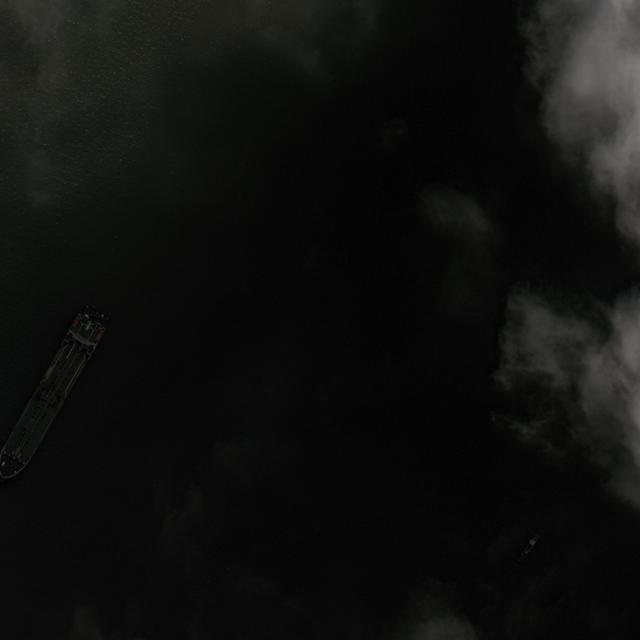Oil Tanker: (1, 306, 112, 481)
Other Ship: (518, 533, 540, 564)
